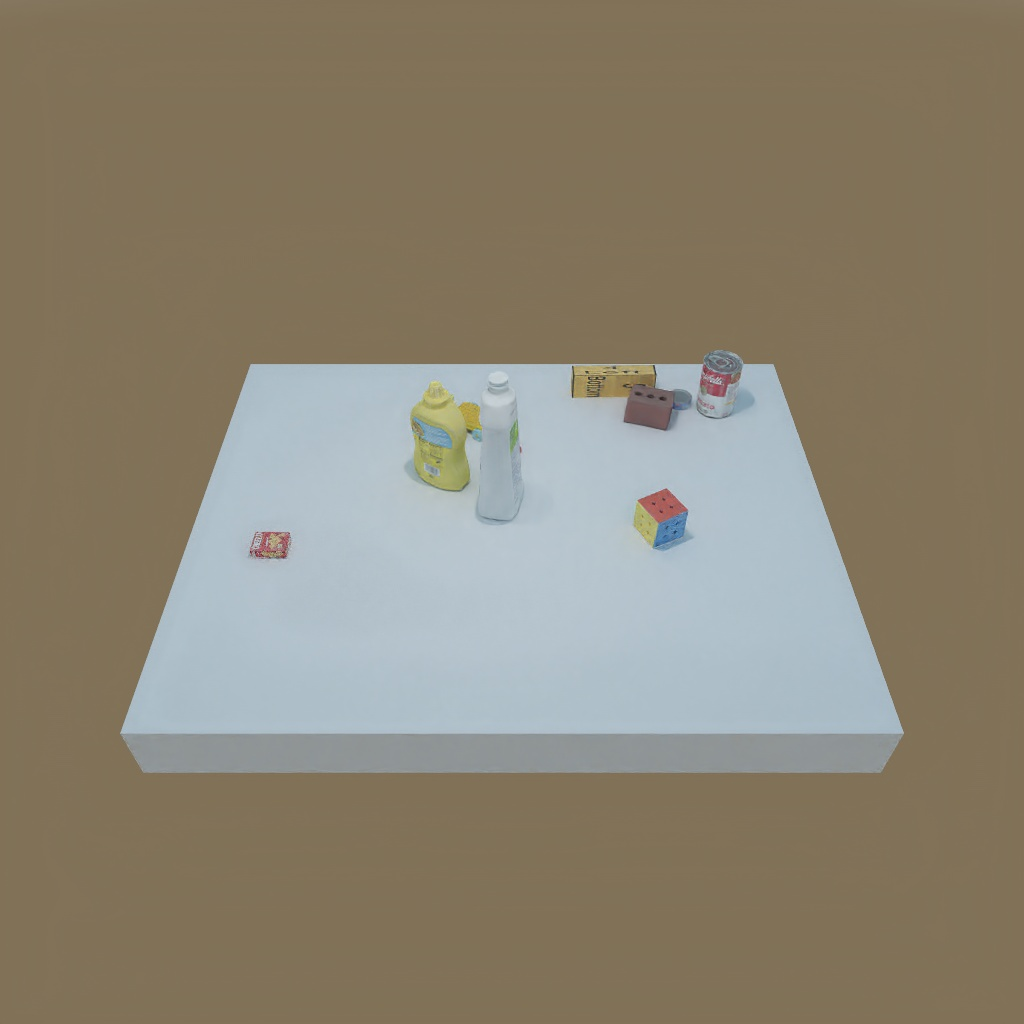jenga: (564, 360, 663, 404)
mustard_bottle: (411, 385, 472, 495)
rubiks_cube: (629, 485, 690, 546)
tomato_soup_can: (698, 348, 741, 422)
